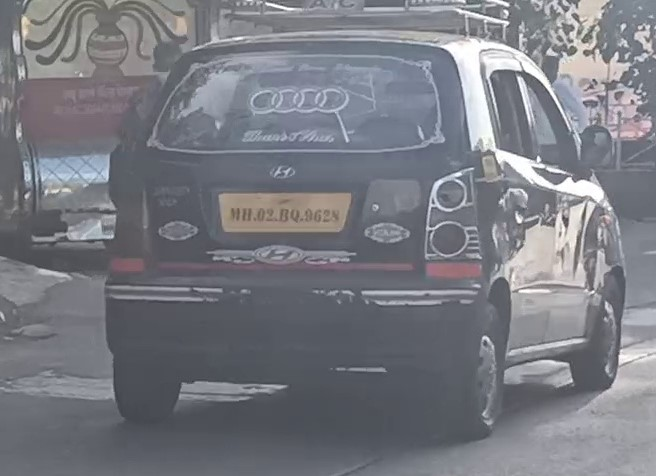MH02BQ9628: (218, 192, 352, 230)
